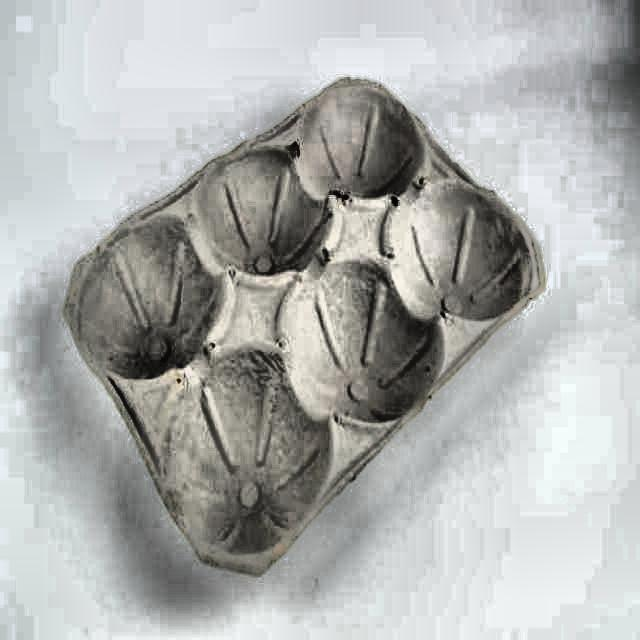cardboard: (62, 77, 547, 580)
